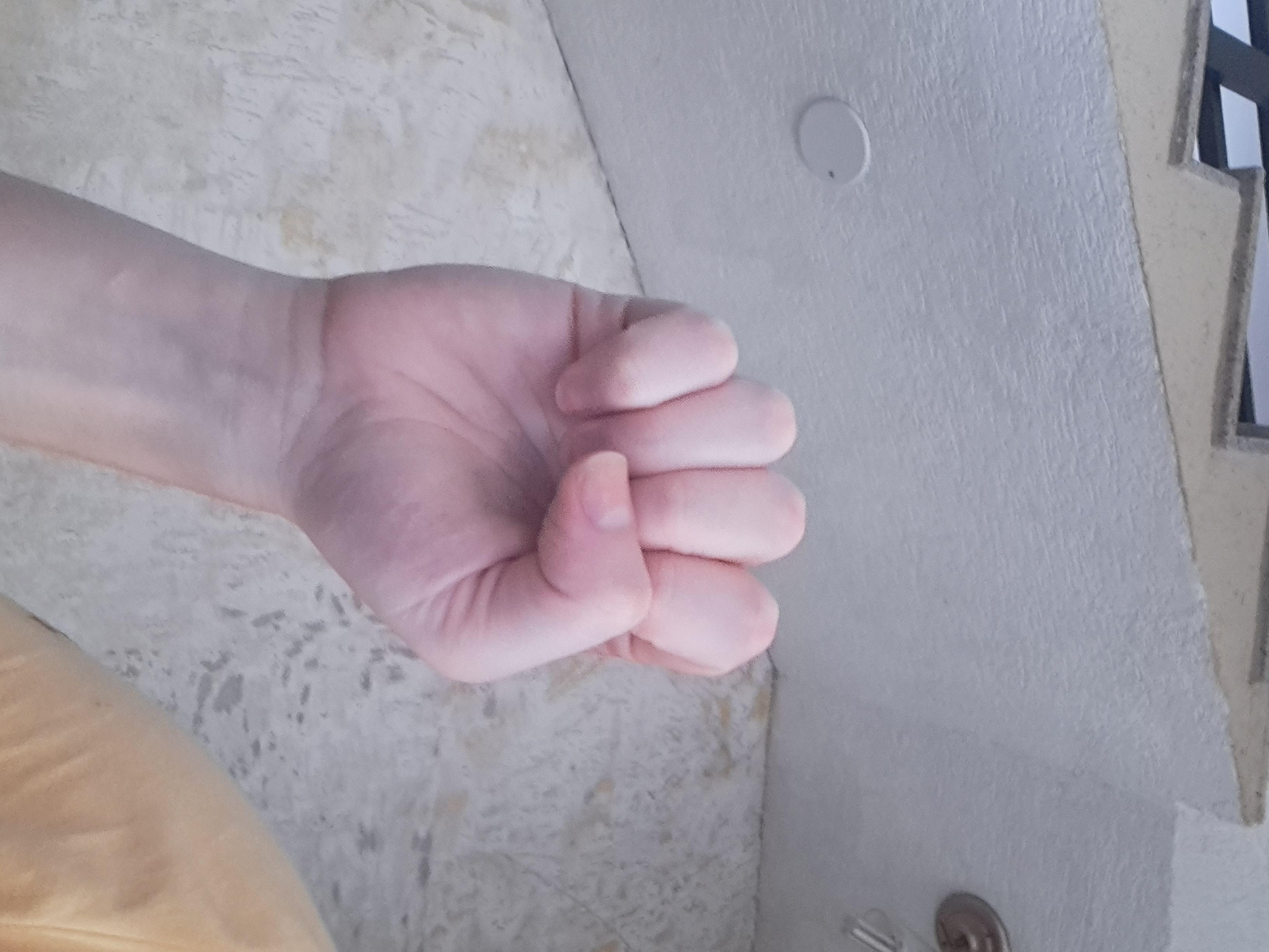S: (311, 338, 949, 747)
